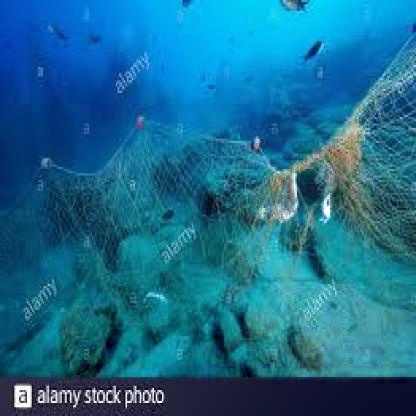net: (20, 110, 287, 342), (344, 19, 416, 278)
